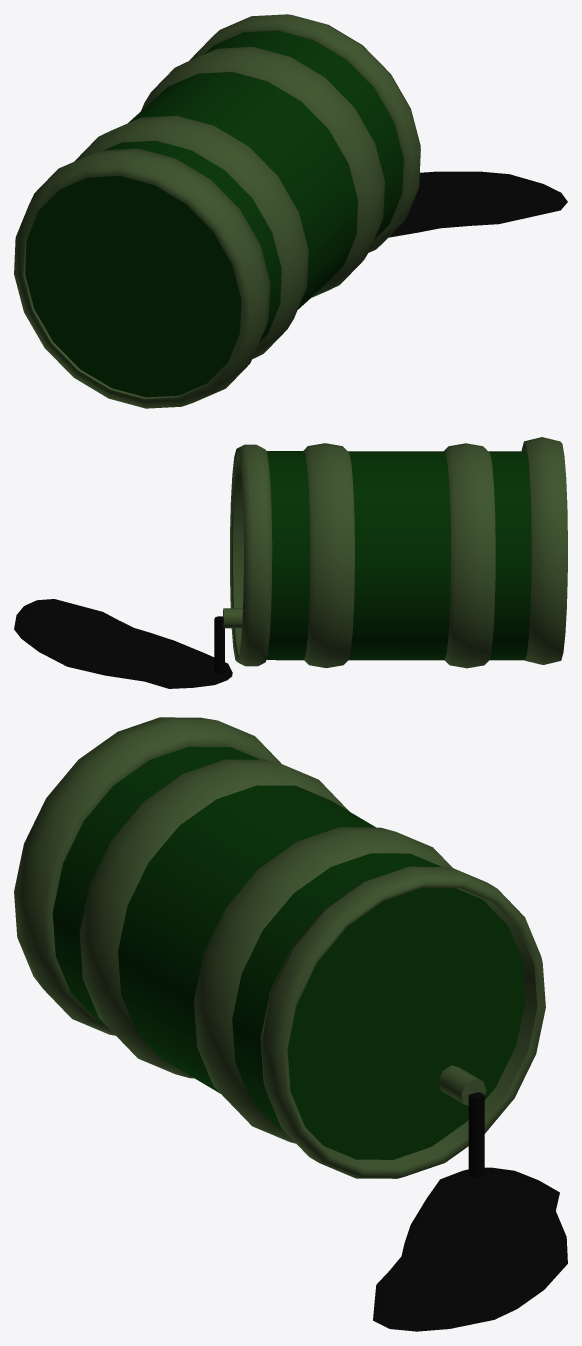
File: SM_3and2_Spilloil.fbx
The picture shows the model from 3 angles, top to bottom: view 1: azimuth 30°, elevation 25°; view 2: azimuth 150°, elevation 25°; view 3: azimuth 270°, elevation 25°; orthographic projection. The views are drawn at different scales.
Visible parts, largest first — view 1: pTorus62; view 2: pTorus62; view 3: pTorus62.
Boxes of the visible parts, x1,y1,x2,y2 form: pTorus62: (14, 14, 567, 408); pTorus62: (14, 437, 567, 688); pTorus62: (14, 717, 567, 1331).
Size of the model in its own units: 270 by 108 by 177.
